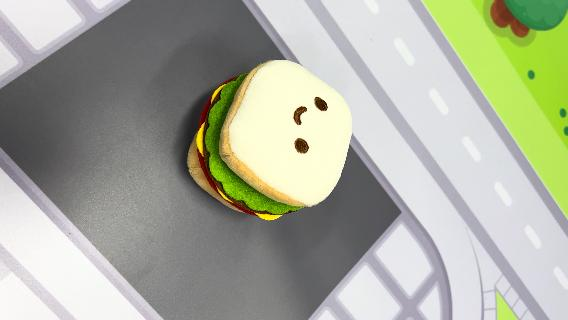sandwich: (185, 56, 355, 222)
